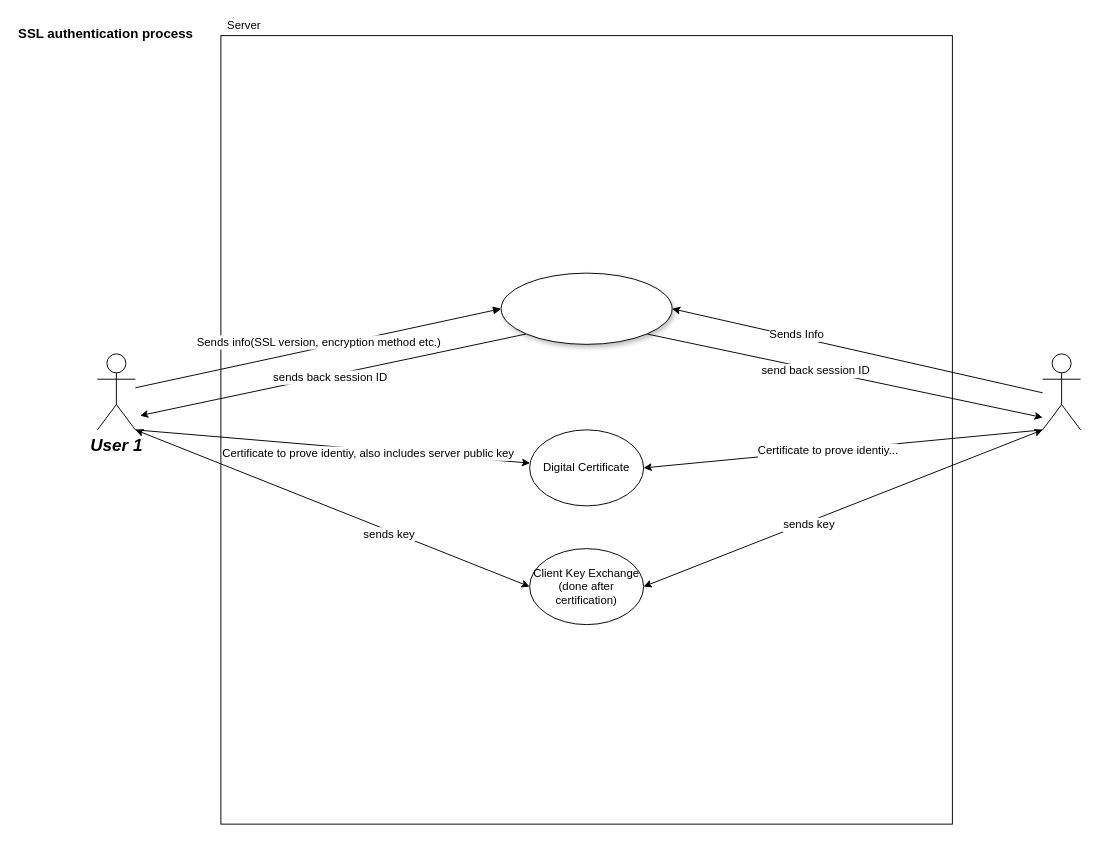
This 1104x841 diagram has some shape labels left out. The centre of each missing label's shape, as x and y in pixels:
"SSL Handshake" goes at pixel 587 309.
"User 2" goes at pixel 1061 391.
